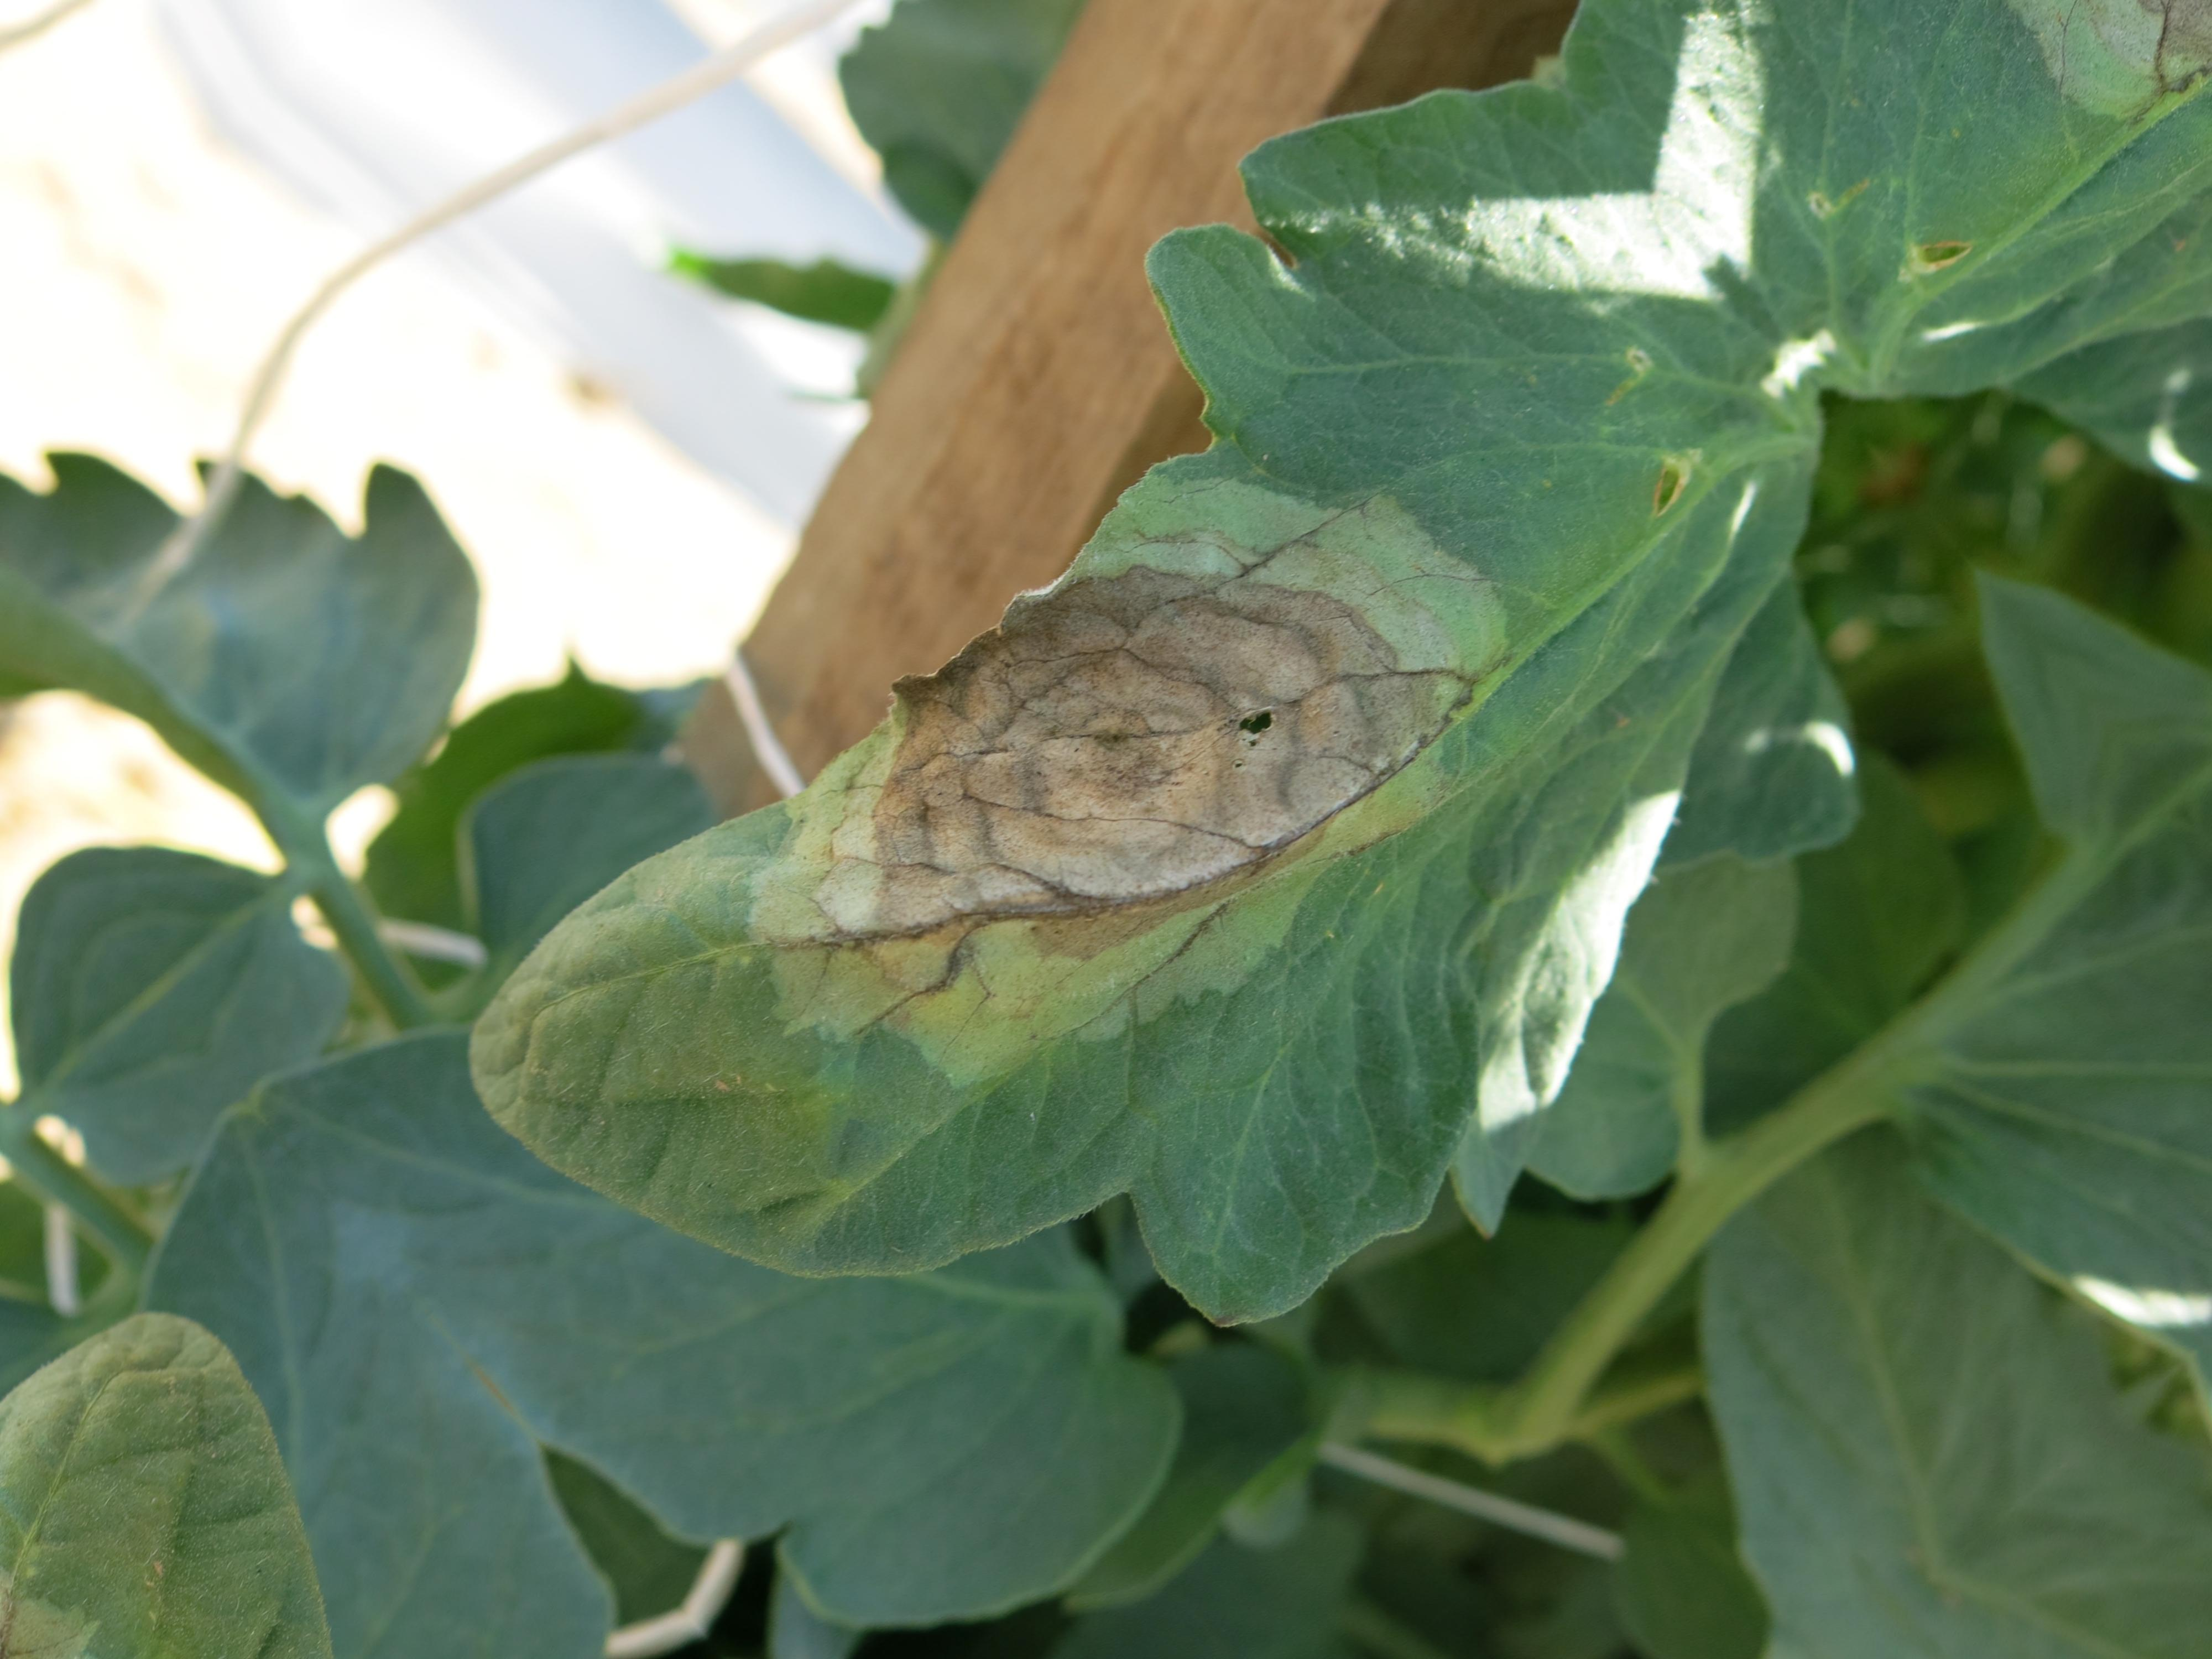Tomato leaf late blight: (290, 0, 2128, 1659)
